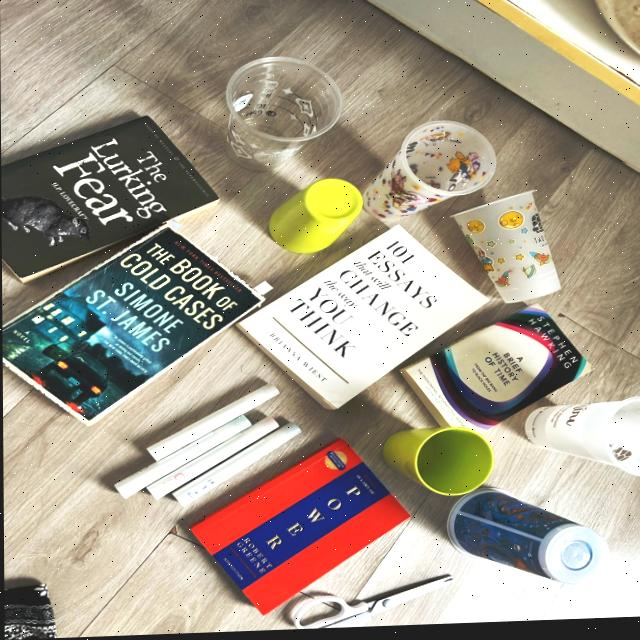Book: (2, 229, 263, 423), (240, 230, 487, 411), (190, 441, 409, 616), (1, 117, 218, 283), (399, 311, 591, 433)
HighLight Pen: (115, 417, 251, 498), (173, 425, 299, 507), (148, 419, 277, 499), (146, 387, 278, 462)
Plastic Cup: (447, 492, 608, 589), (363, 124, 495, 226), (226, 59, 341, 171), (452, 195, 559, 306), (524, 401, 640, 481), (269, 181, 362, 256)
Scissors: (293, 578, 451, 631)
WaterGlass: (382, 431, 493, 499)
